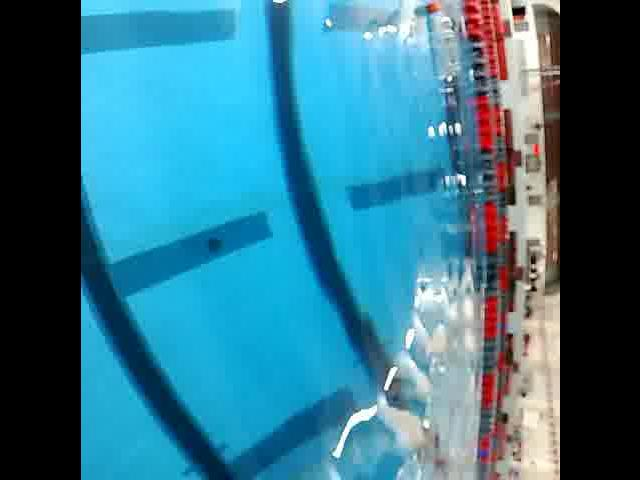Bottle: (415, 0, 468, 83)
